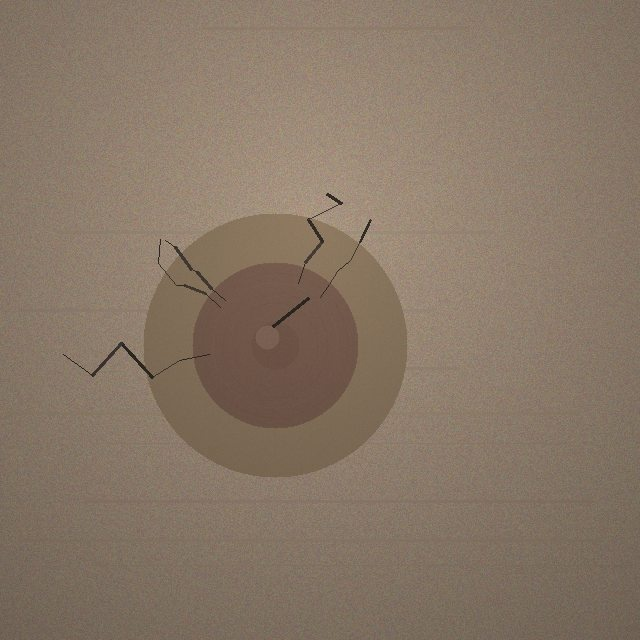crack: (143, 213, 407, 477)
